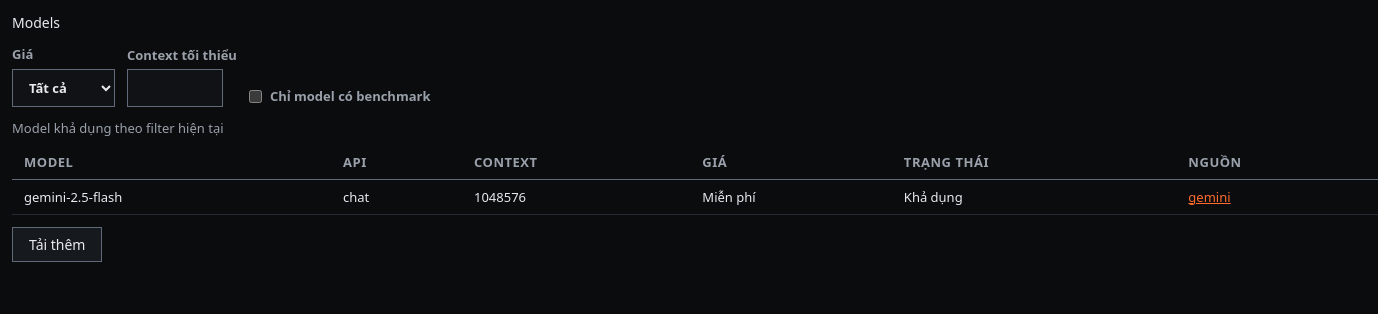
Test case: ModelCatalog › appends the next page and stops when the cursor is exhausted
expect the number of rows is 2: met, box [12,144,1377,179]; [12,179,1377,214]
Click the button "Tải thêm". click: coordinates (57, 244)
box: [12,226,102,262]
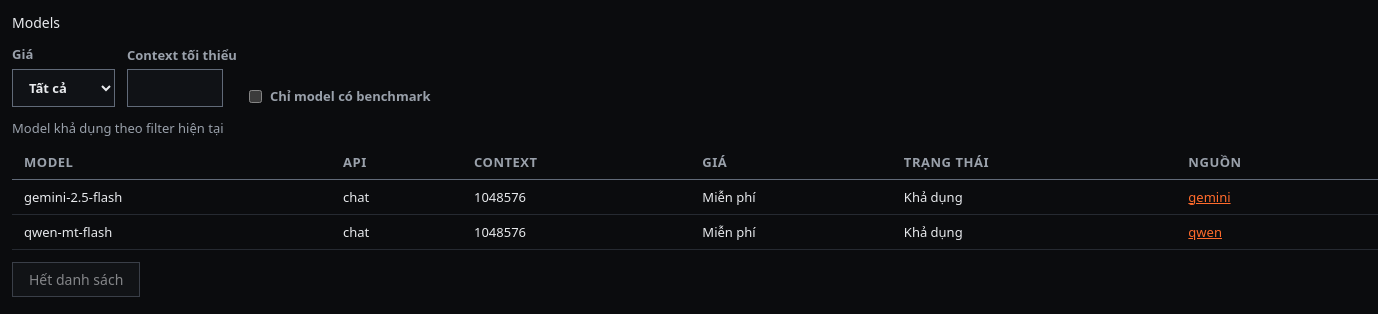
expect the number of rows is 3: met, box [12,144,1377,179]; [12,179,1377,214]; [12,214,1377,249]
expect the text "qwen-mt-flash" is shown: met, box [12,214,331,249]
expect the button "Hết danh sách" is disabled: met, box [12,262,140,297]
